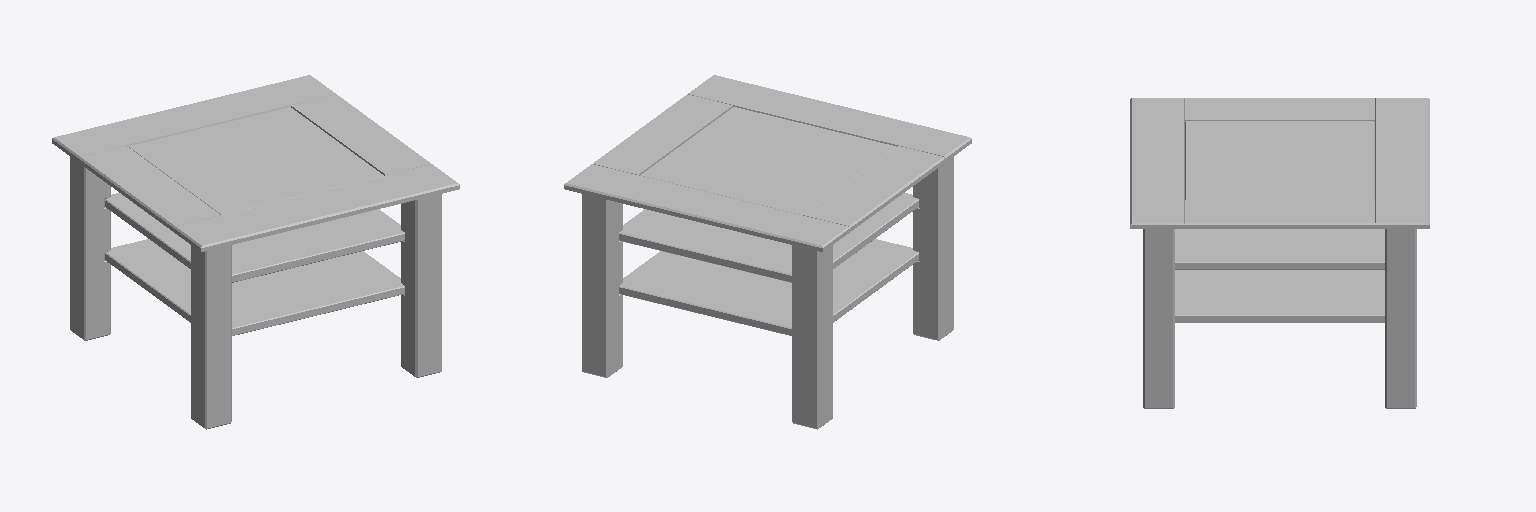
Rendered from figure.obj.
3 views of the same model, side by side, from view 1: azimuth 30°, elevation 25°; view 2: azimuth 150°, elevation 25°; view 3: azimuth 270°, elevation 25° (orthographic).
Parts seen in each view (by area): view 1: Wood_Table, Wood_Table_Glass; view 2: Wood_Table, Wood_Table_Glass; view 3: Wood_Table, Wood_Table_Glass.
Part boxes in pixels (bbox=[...]): Wood_Table: bbox=[52, 75, 459, 429]; Wood_Table_Glass: bbox=[128, 107, 383, 214]; Wood_Table: bbox=[564, 75, 971, 429]; Wood_Table_Glass: bbox=[640, 107, 895, 214]; Wood_Table: bbox=[1130, 98, 1429, 408]; Wood_Table_Glass: bbox=[1185, 121, 1374, 199].
Bounding box in the file's own units: 0.6601 × 0.4664 × 0.6601.